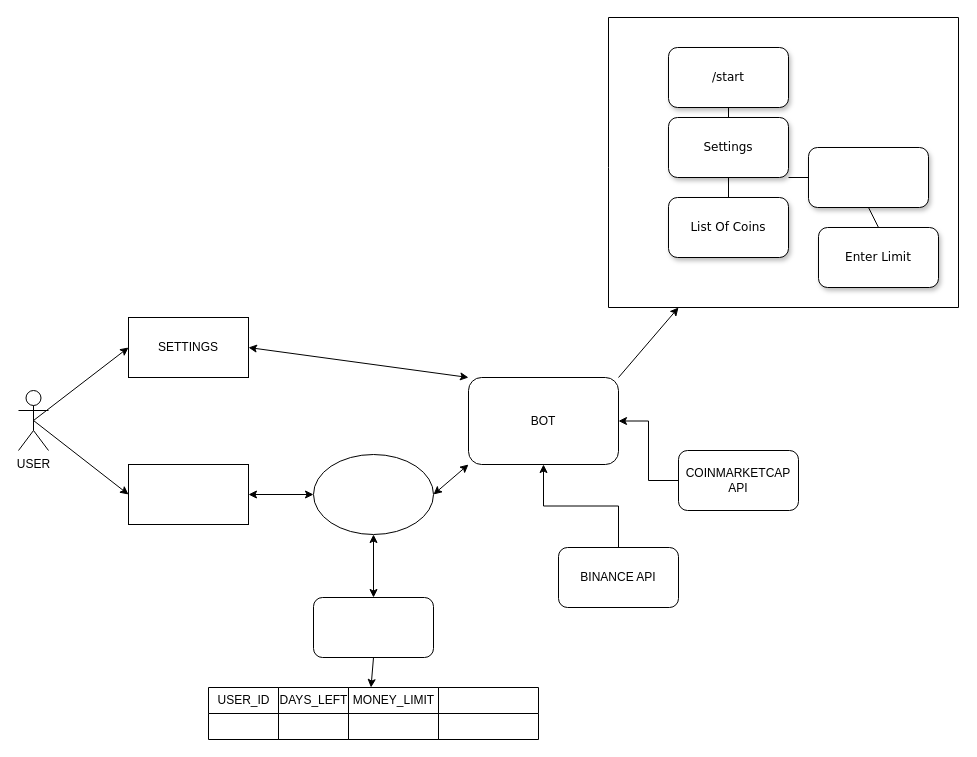
Some shapes in this 977 by 757 pixel diagram are drawn without their labels. Each missing label, with the centre of its shape:
DB: the point at 373,627
FUNCTIONS: the point at 188,494
LIST_OF_COINS: the point at 488,713
Money Limit: the point at 869,178
PAYMENT: the point at 373,494
